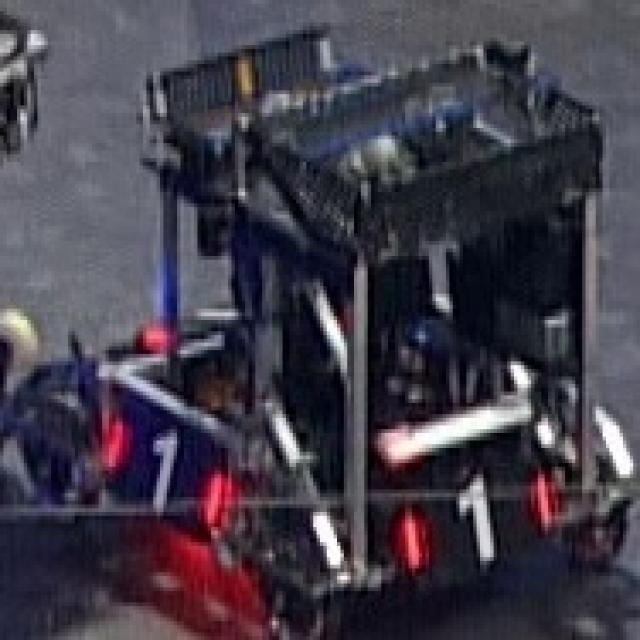R1: (398, 467, 558, 572), (95, 414, 228, 531)
